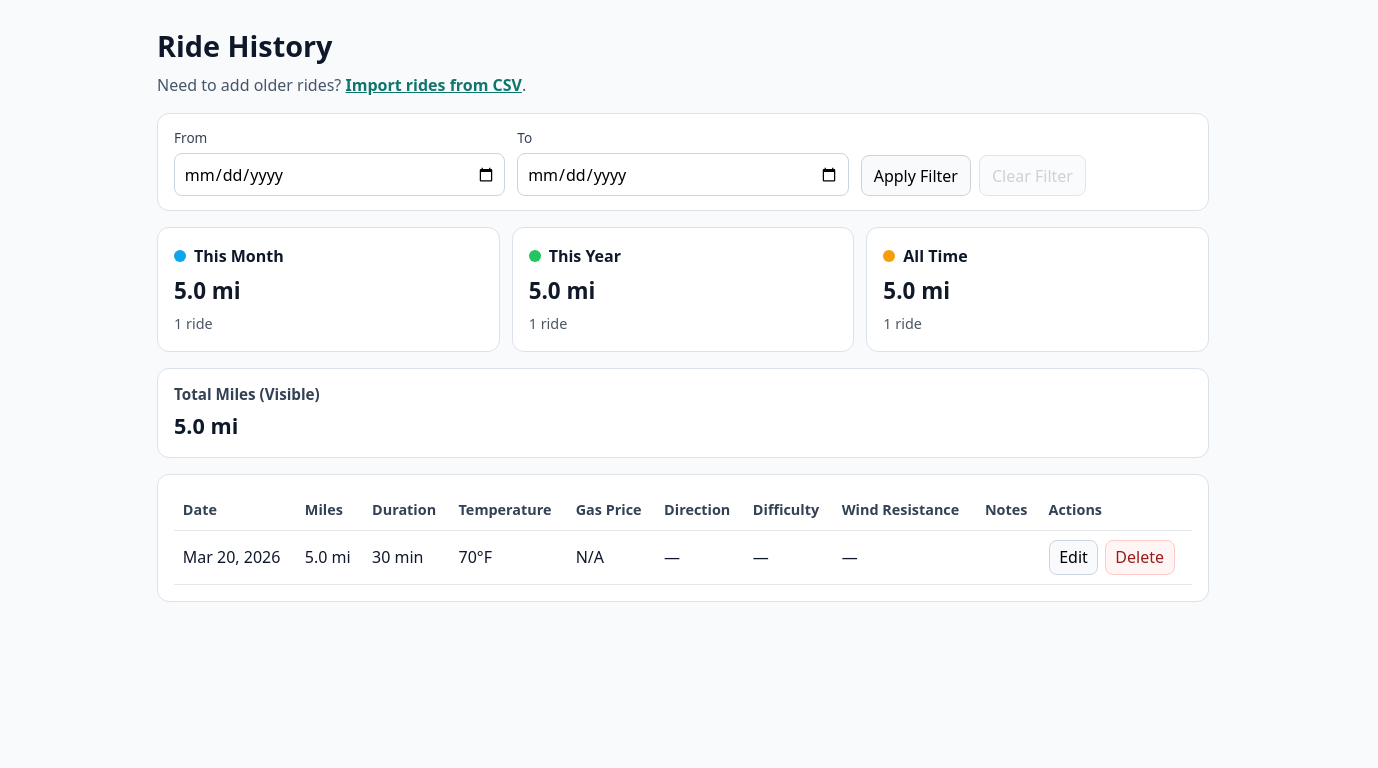
Scenario: HistoryPage › should discard in-progress row edits when Cancel is clicked
The width and height of the screenshot is (1378, 768).
Click the button "Edit" at (1073, 557), box [1048,540,1098,575]
(page scrolled)
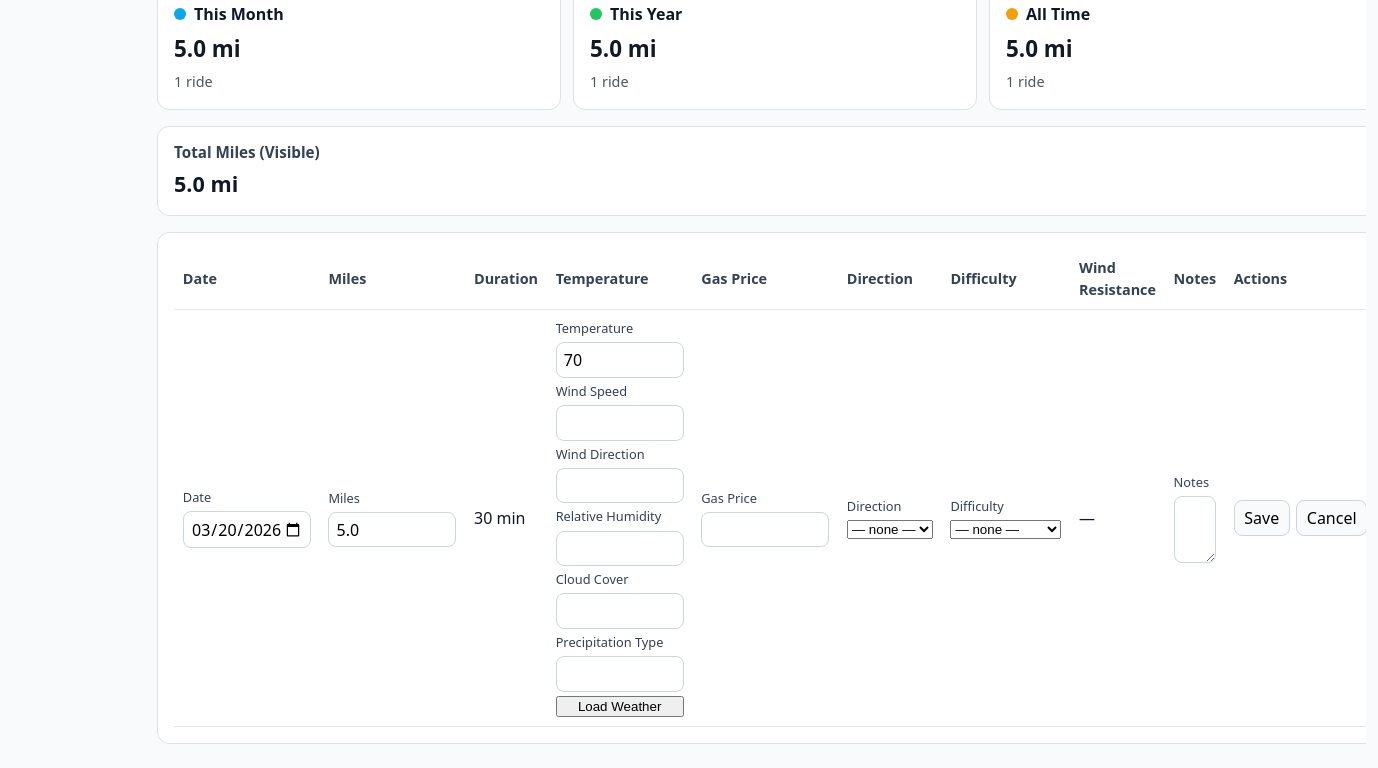
Replace the text in the number field labelled "Miles" with "9.9" at (392, 530), box [328,512,456,547]
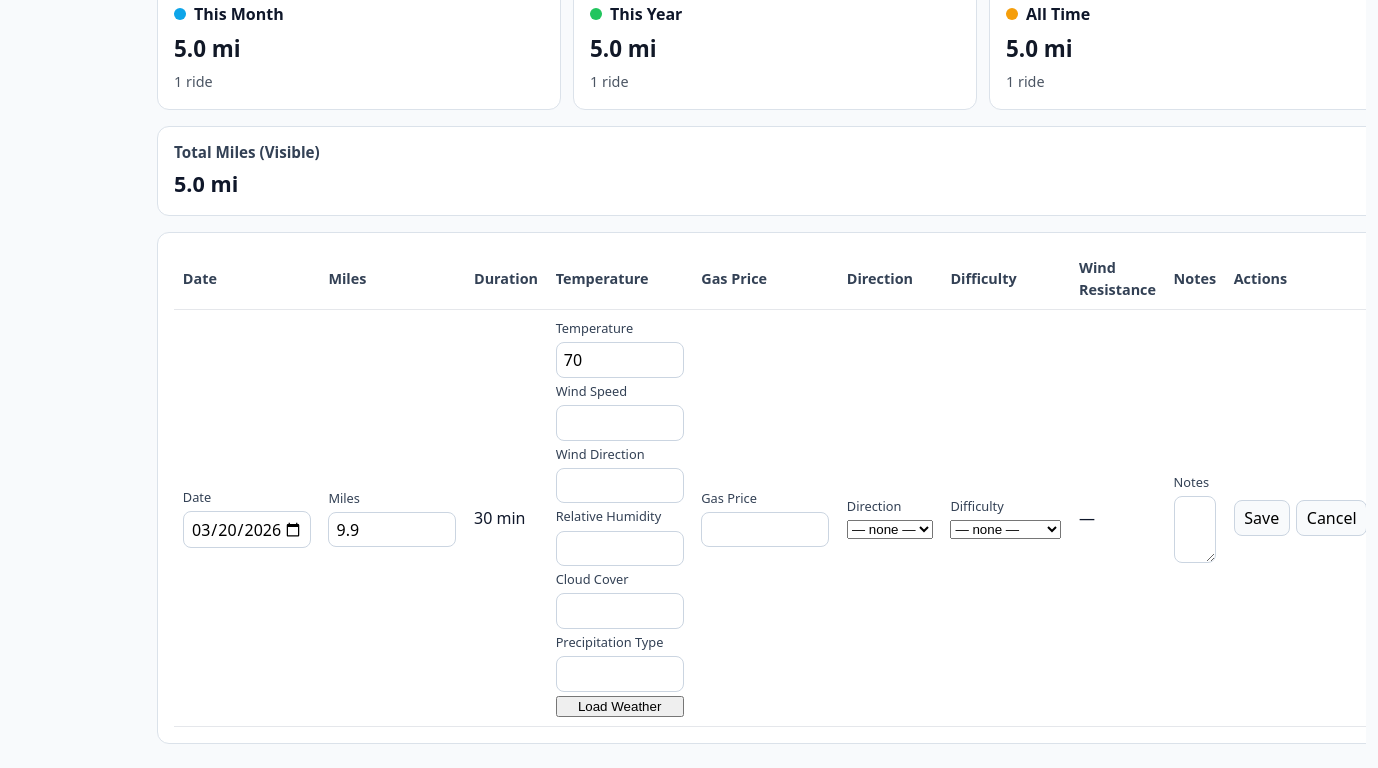
Click the button "Cancel" at (1331, 518), box [1296,500,1366,536]
(page scrolled)
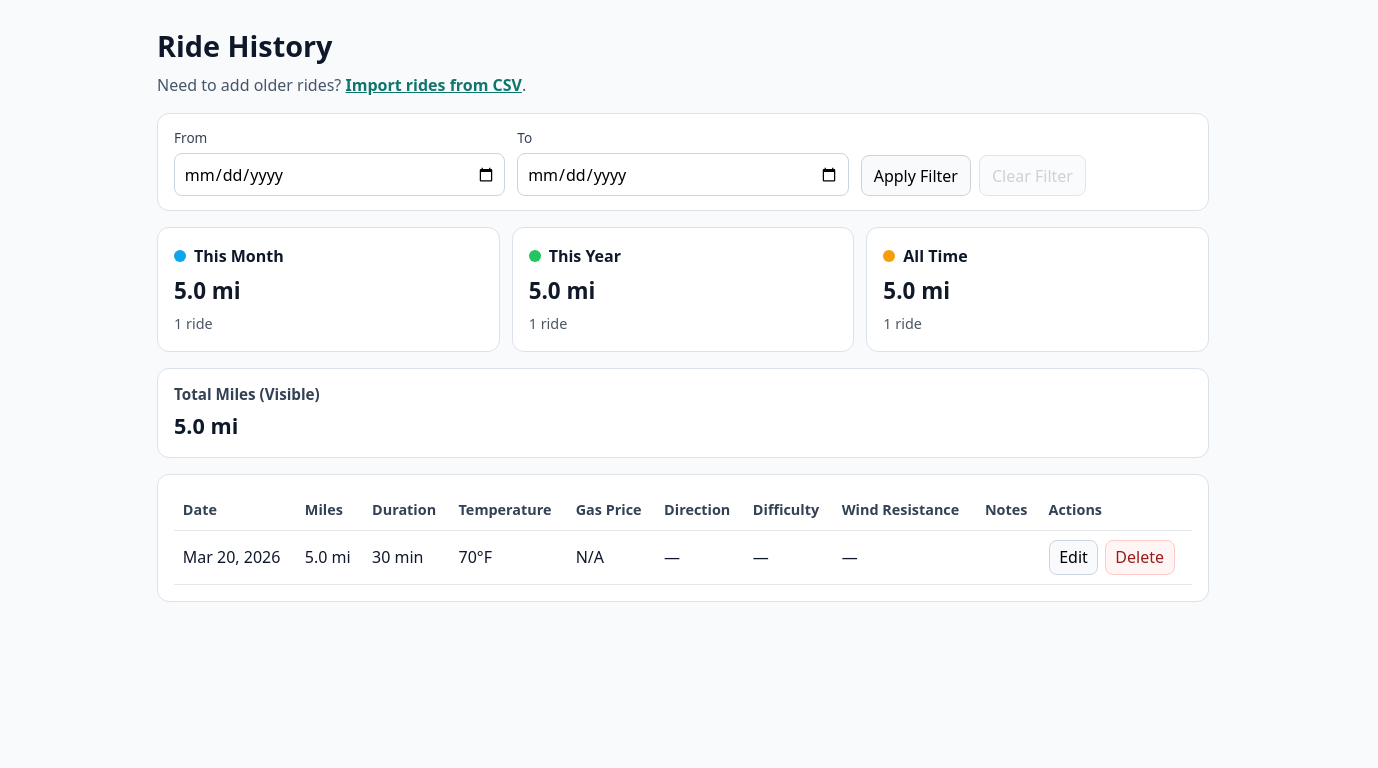
Expected: the field showing "9.9" is not shown
Now the text "5.0 mi" is shown, box [296,530,363,584]
